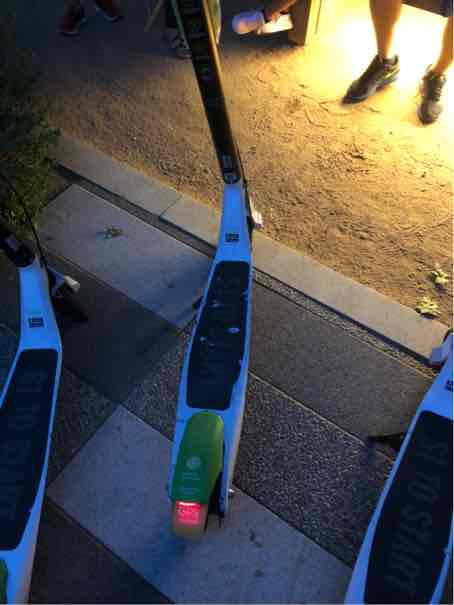scooter: (15, 17, 284, 594)
